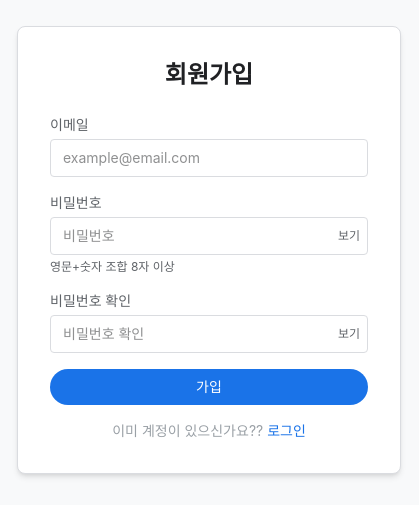
Test: RegisterPage › 비밀번호 불일치 시 오류 메시지를 표시한다
This screenshot has width=419, height=505.
Type "test@example.com" into the field labelled "이메일".
click(209, 158); type("test@example.com")  # box [50, 139, 368, 177]
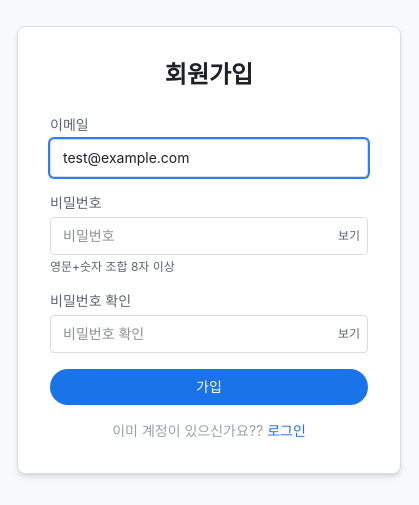
Type "password123" into the password field labelled "비밀번호".
click(209, 236); type("password123")  # box [50, 217, 368, 255]
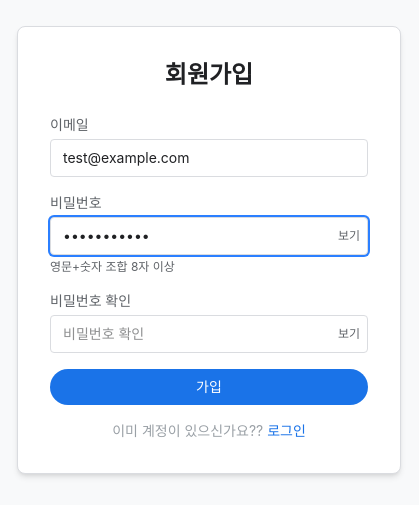
Type "different123" into the password field labelled "비밀번호 확인".
click(209, 334); type("different123")  # box [50, 315, 368, 353]
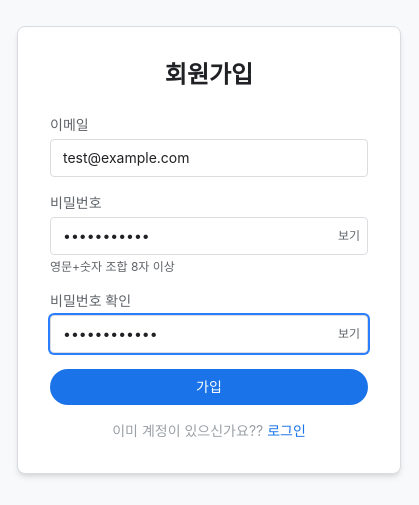
Click the button "가입".
click(209, 387)  # box [50, 369, 368, 405]
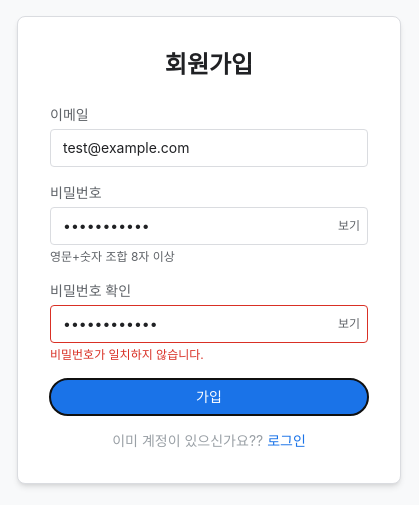
Check: the text "비밀번호가 일치하지 않습니다." is shown, box [50, 347, 204, 362]
